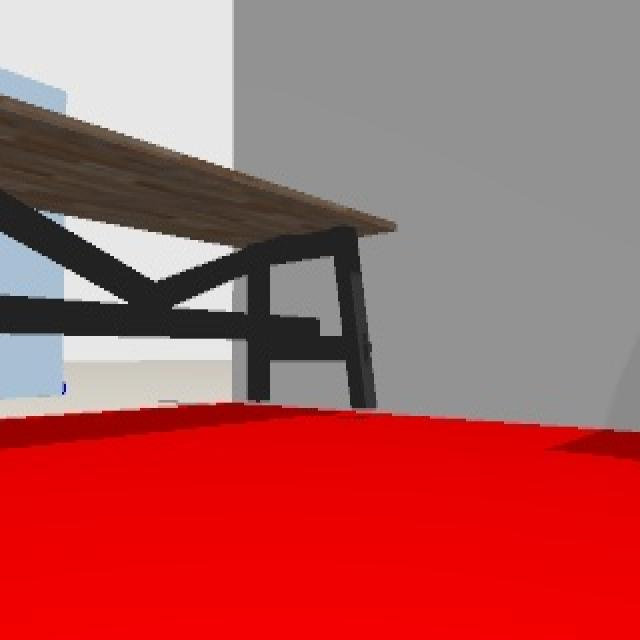dining: (0, 91, 398, 416)
